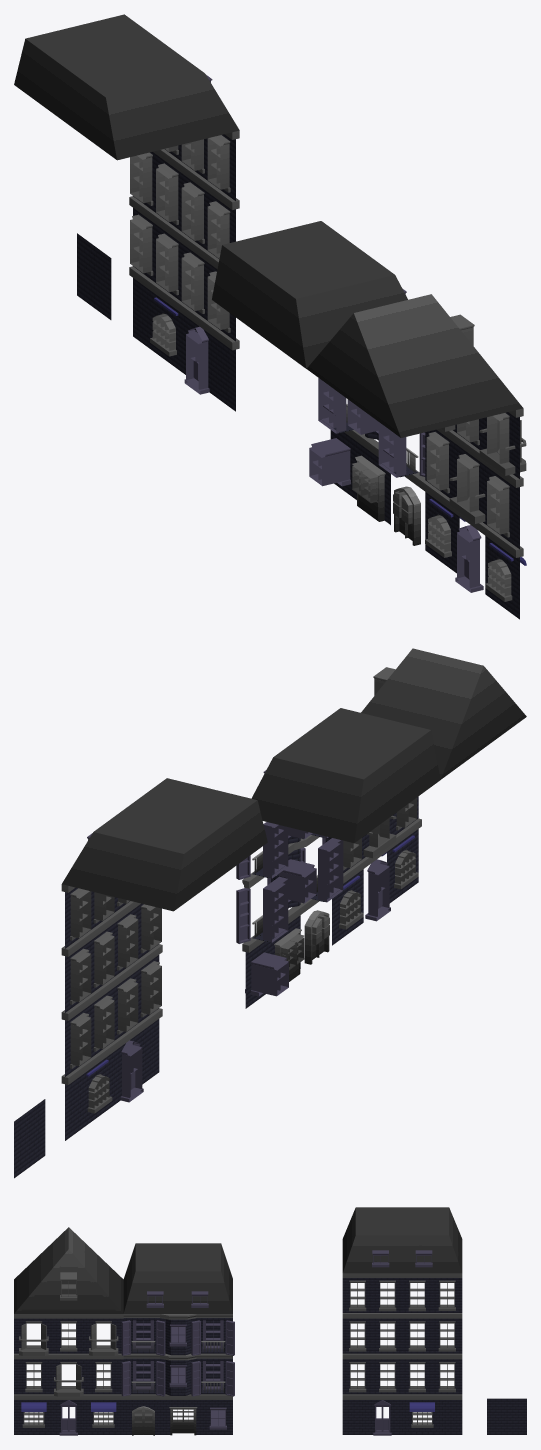
Rendered from NewBuilding345.fbx.
The picture shows the model from 3 angles, top to bottom: view 1: azimuth 30°, elevation 25°; view 2: azimuth 150°, elevation 25°; view 3: azimuth 270°, elevation 25°; orthographic projection. The views are drawn at different scales.
Visible parts, largest first — view 1: Roof2.001, Roof1, Roof2, WallP, WinFSmall.003, Door3, Door1, Door1.001, Door2, Beam2_12M, WinBig.002, Win3.006 (+29 smaller); view 2: Roof2, Roof2.001, Roof1, WallP, WinBig.003, WinBig.002, WinFSmall.003, Door1, WinBig.001, WinFSmall.002, Door1.001, Door2 (+25 smaller); view 3: Roof2.001, Roof2, Roof1, WallP, Wall4M.002, Wall4M.003, Wall4M3, Wall4M.005, Wall4M.007, Wall4M.004, Beam2_12M.001, Wall4M.006 (+64 smaller).
Boxes of the visible parts, x1=… form: Roof2.001: x1=14, y1=14, x2=239, y2=160; Roof1: x1=307, y1=294, x2=522, y2=437; Roof2: x1=212, y1=221, x2=407, y2=368; WallP: x1=77, y1=233, x2=111, y2=319; WinFSmall.003: x1=309, y1=438, x2=350, y2=486; Door3: x1=352, y1=455, x2=385, y2=521; Door1: x1=455, y1=525, x2=483, y2=592; Door1.001: x1=184, y1=326, x2=209, y2=394; Door2: x1=393, y1=486, x2=420, y2=545; Beam2_12M: x1=129, y1=266, x2=239, y2=350; WinBig.002: x1=378, y1=422, x2=406, y2=477; Win3.006: x1=426, y1=432, x2=449, y2=490; Roof2: x1=251, y1=708, x2=440, y2=843; Roof2.001: x1=62, y1=778, x2=267, y2=911; Roof1: x1=361, y1=648, x2=526, y2=779; WallP: x1=14, y1=1099, x2=45, y2=1178; WinBig.003: x1=263, y1=876, x2=288, y2=942; WinBig.002: x1=318, y1=838, x2=343, y2=902; WinFSmall.003: x1=245, y1=952, x2=288, y2=996; Door1: x1=365, y1=859, x2=390, y2=921; WinBig.001: x1=263, y1=822, x2=288, y2=878; WinFSmall.002: x1=279, y1=859, x2=316, y2=903; Door1.001: x1=120, y1=1040, x2=143, y2=1102; Door2: x1=304, y1=910, x2=329, y2=964; Roof2.001: x1=342, y1=1207, x2=462, y2=1273; Roof2: x1=123, y1=1243, x2=232, y2=1313; Roof1: x1=14, y1=1227, x2=123, y2=1313; WallP: x1=487, y1=1398, x2=526, y2=1434; Wall4M.002: x1=14, y1=1359, x2=53, y2=1394; Wall4M.003: x1=83, y1=1359, x2=123, y2=1394; Wall4M3: x1=362, y1=1400, x2=402, y2=1434; Wall4M.005: x1=83, y1=1400, x2=123, y2=1434; Wall4M.007: x1=402, y1=1400, x2=442, y2=1434; Wall4M.004: x1=14, y1=1400, x2=53, y2=1434; Beam2_12M.001: x1=342, y1=1353, x2=462, y2=1359; Wall4M.006: x1=123, y1=1400, x2=163, y2=1434.
Size of the model in its own units: 890 by 2150 by 5150.
